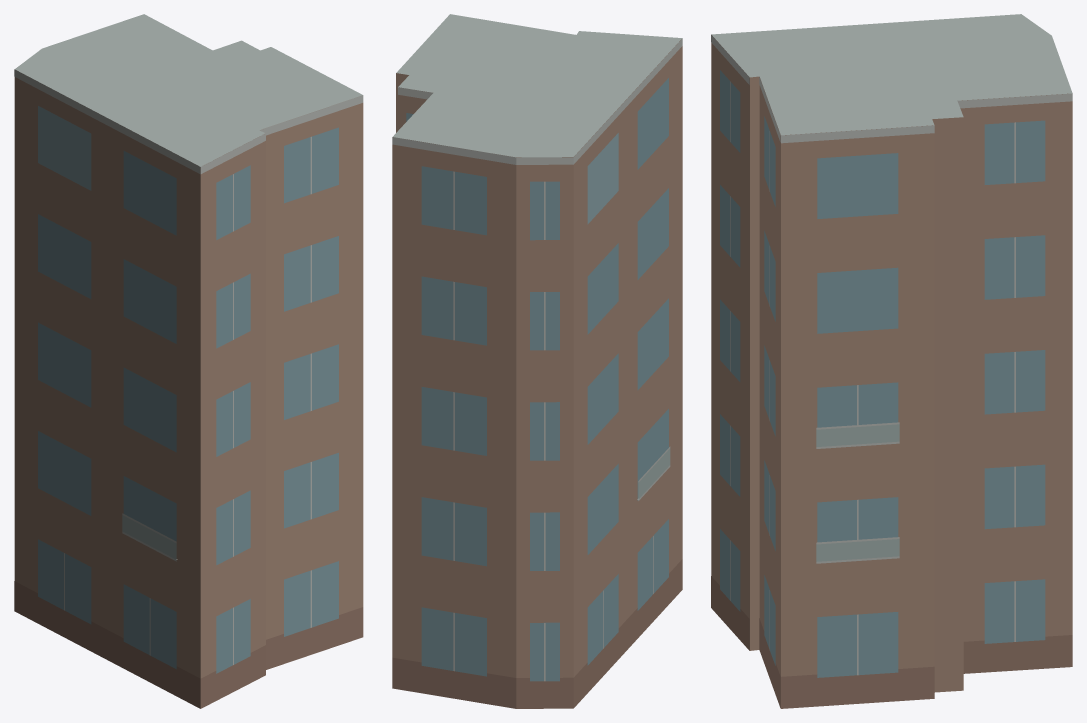
Rendered from survey-upis-32498087.glb.
3 renders of one model, left to right at view 1: azimuth 30°, elevation 25°; view 2: azimuth 150°, elevation 25°; view 3: azimuth 270°, elevation 25°, orthographic. The views are drawn at different scales.
Visible parts, largest first — view 1: survey-upis-32498087.tmp; view 2: survey-upis-32498087.tmp; view 3: survey-upis-32498087.tmp.
Boxes of the visible parts, box(x1,y1,x2,y2) form: survey-upis-32498087.tmp: box(14, 14, 363, 708); survey-upis-32498087.tmp: box(392, 14, 682, 708); survey-upis-32498087.tmp: box(711, 14, 1072, 708).
Bounding box in the file's own units: 8.02 × 17.65 × 10.09.
